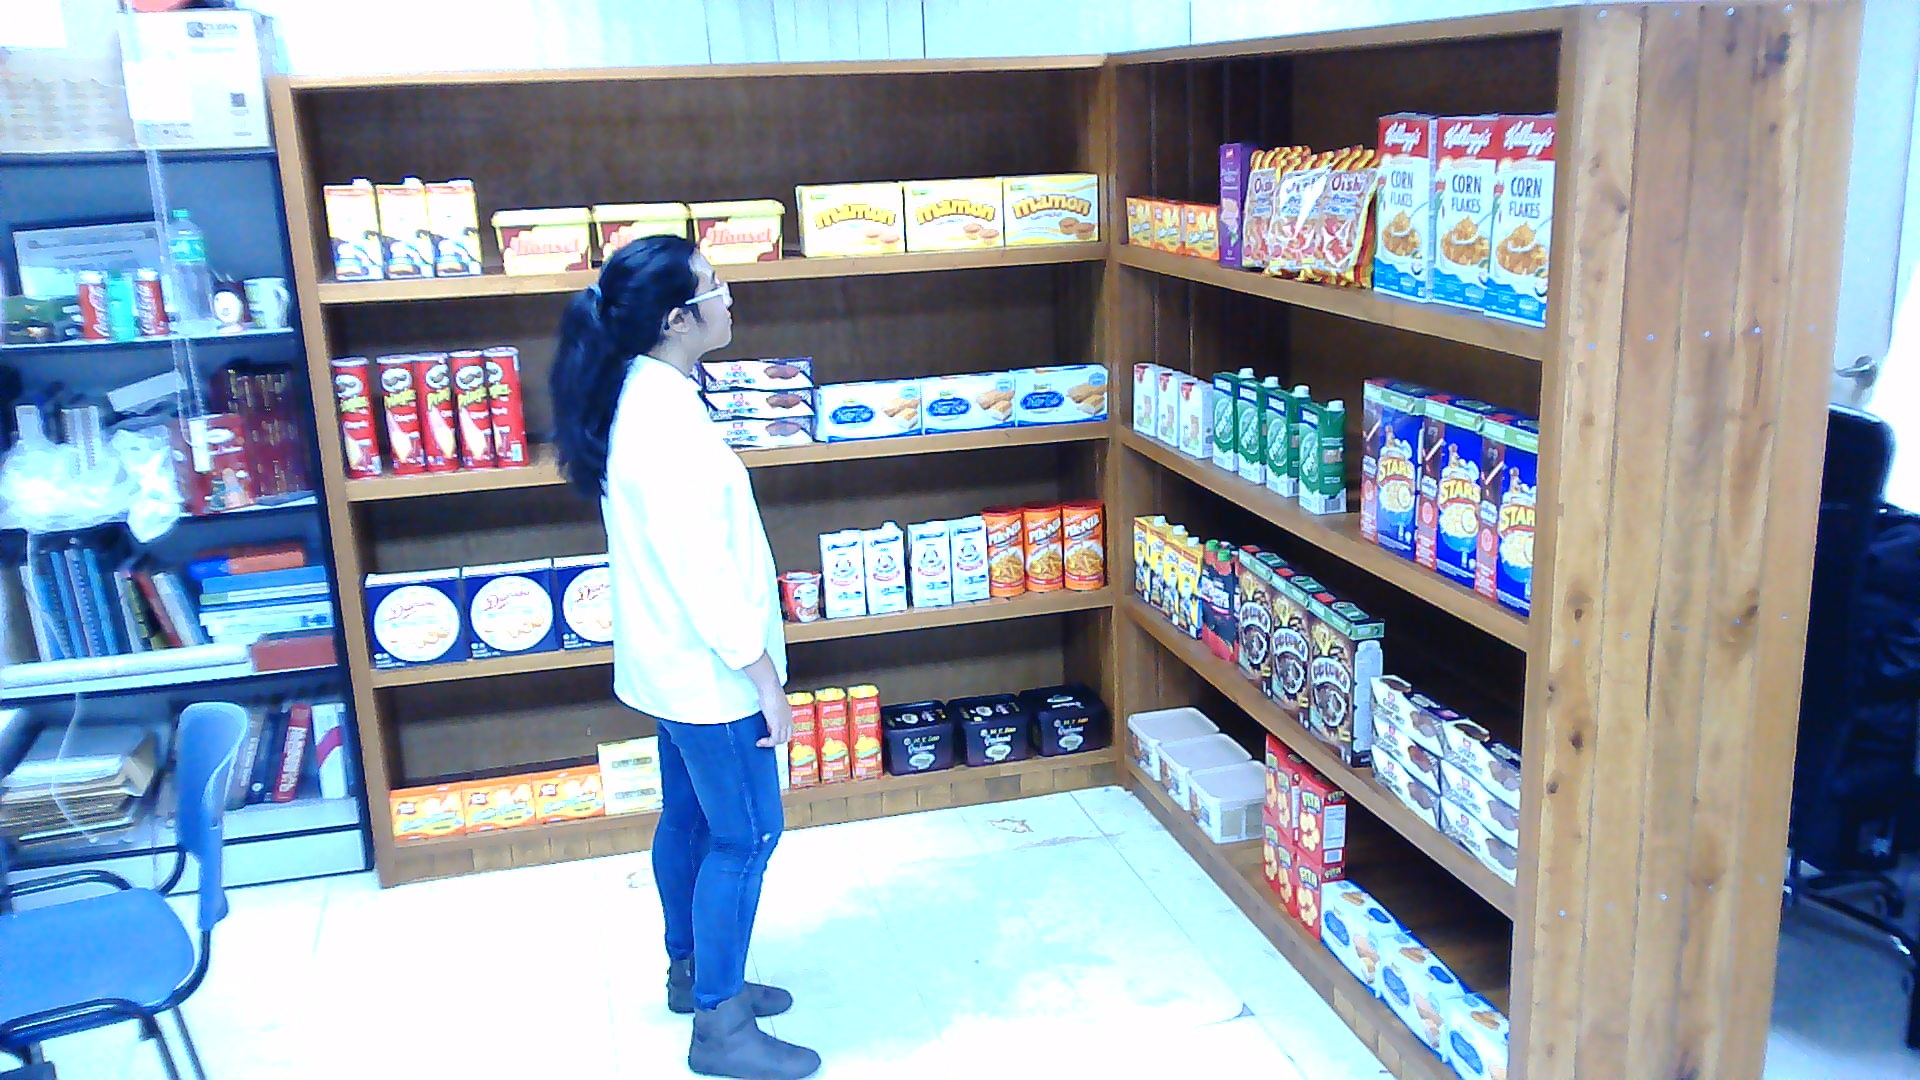Bear brand: (858, 520, 906, 612), (942, 513, 990, 601), (819, 529, 867, 619), (906, 520, 951, 608)
Buttercake: (1380, 929, 1476, 1062), (1320, 877, 1410, 999), (812, 378, 917, 441), (912, 368, 1014, 431), (1007, 362, 1106, 425), (1446, 992, 1506, 1078)
Butterlicious: (527, 762, 602, 821), (459, 771, 534, 830), (390, 780, 462, 841), (1152, 198, 1188, 254), (1125, 196, 1164, 245), (1184, 203, 1217, 259)
Camomille: (597, 735, 660, 782), (603, 776, 663, 814)
Choco Crunchies: (1371, 672, 1467, 755), (1440, 718, 1521, 808), (1440, 794, 1518, 886), (1440, 758, 1518, 848), (1371, 742, 1437, 830), (1370, 710, 1439, 791), (702, 353, 810, 389), (716, 414, 809, 450), (701, 389, 812, 418)
Chocolate Chips: (1124, 704, 1217, 780), (1155, 734, 1251, 808), (1185, 758, 1263, 844)
Chuckie: (321, 177, 381, 278), (374, 177, 431, 278), (426, 180, 480, 274), (1149, 524, 1188, 612), (1164, 533, 1197, 625), (1134, 513, 1167, 603), (1175, 542, 1202, 639)
Danisa: (362, 564, 467, 667), (459, 555, 561, 656), (552, 551, 612, 648)
Fita: (1293, 846, 1344, 940), (1296, 767, 1344, 864), (1278, 749, 1311, 846), (1266, 731, 1290, 819), (1278, 828, 1296, 918), (1260, 805, 1278, 891)
Fresh Milk: (1298, 398, 1343, 513), (1266, 385, 1311, 495), (1236, 376, 1281, 484), (1212, 367, 1257, 473)
Grahams: (1020, 682, 1104, 756), (948, 693, 1032, 765), (882, 700, 954, 774)
Hansel: (684, 198, 786, 266), (489, 207, 591, 272), (591, 200, 687, 268)
Head: (593, 227, 740, 373)
Honey Stars: (1413, 392, 1512, 590), (1359, 373, 1443, 560), (1473, 409, 1539, 614)
Kellogg Corn Flakes: (1482, 112, 1554, 326), (1430, 115, 1499, 311), (1373, 110, 1436, 301)
Kimchi Noodles: (779, 567, 818, 623)
Koko Krunch: (1308, 587, 1386, 765), (1269, 567, 1329, 731), (1239, 542, 1290, 697)
Locally Mango: (813, 686, 849, 783), (846, 684, 882, 778), (782, 688, 815, 785)
Mamon: (795, 180, 906, 256), (897, 176, 1005, 252), (992, 171, 1097, 243)
Oishi Prawn: (1257, 149, 1335, 279), (1313, 148, 1376, 288), (1242, 144, 1311, 266)
Pik-nik: (981, 504, 1023, 594), (1062, 500, 1104, 590), (1020, 502, 1062, 592)
Pringles: (329, 355, 380, 477), (375, 353, 423, 472), (411, 351, 459, 470), (446, 348, 491, 467), (483, 344, 525, 466)
Super Fruits: (1200, 540, 1233, 643), (1209, 549, 1233, 659), (1230, 548, 1239, 661)
Wafer: (1218, 142, 1251, 268)
iHop: (1178, 377, 1211, 458), (1131, 360, 1167, 434), (1158, 369, 1191, 445)
